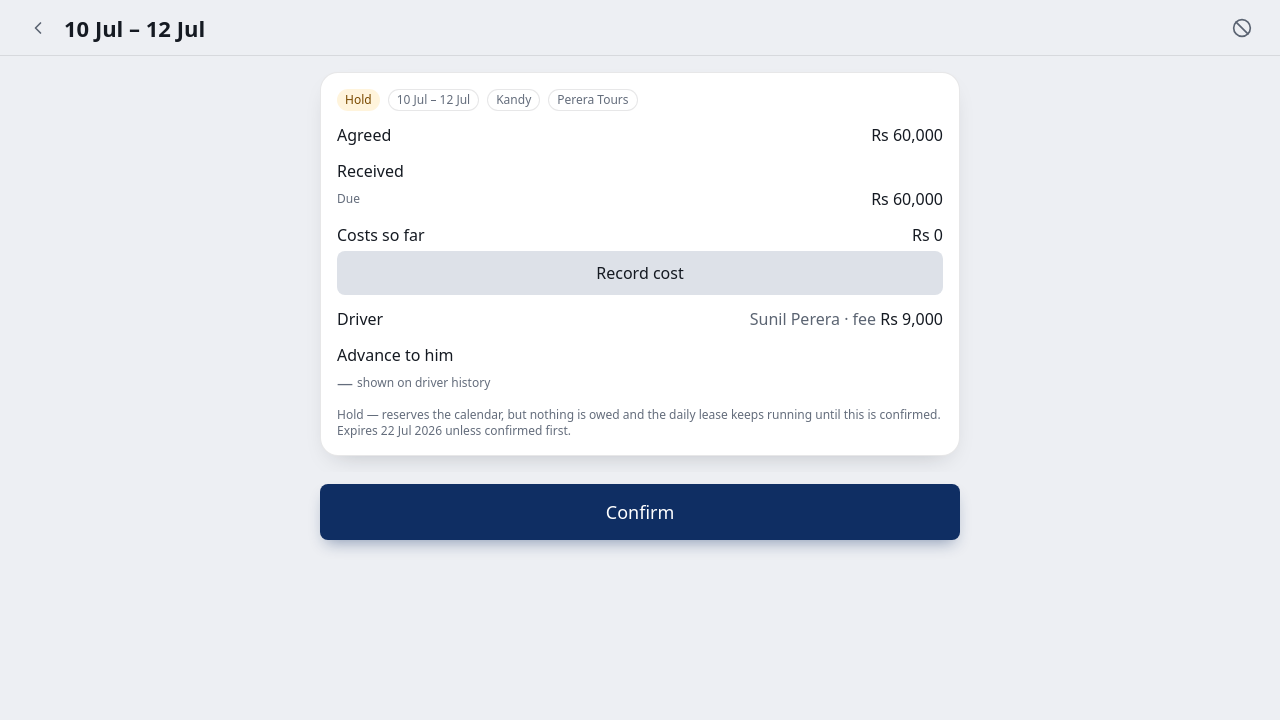
Test: GAP-7/ST-5: Confirm posts to /confirm and the trip re-reads as booked
Step 1. Click the button "Confirm" → (640, 512), box [320, 484, 960, 540]
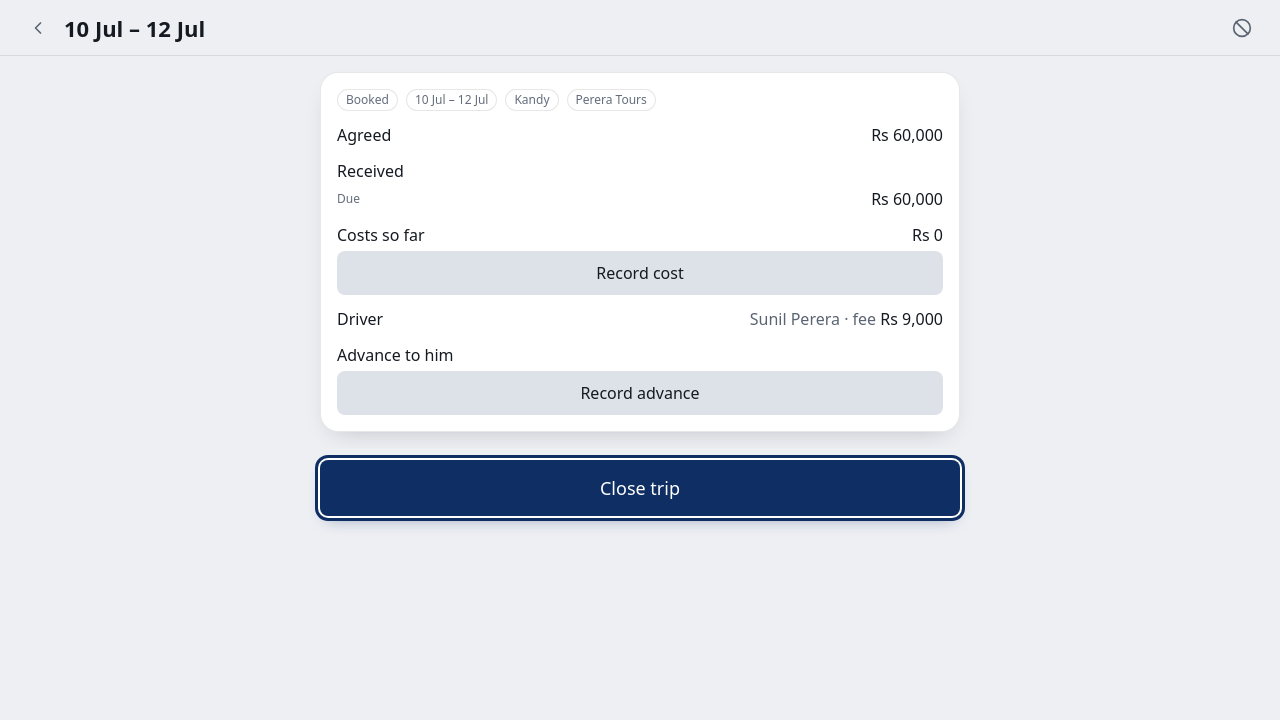
Expected: the button "Close trip" is shown, [320, 460, 960, 516]
